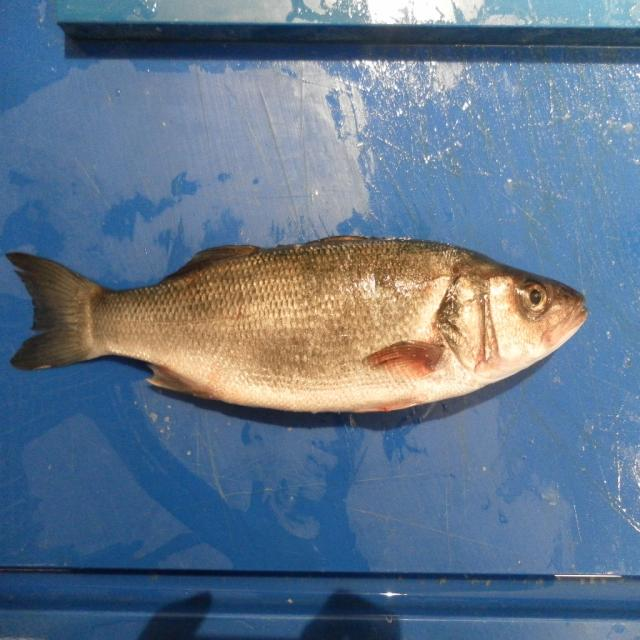Sea-Bass-levrek-: (5, 237, 589, 417)
